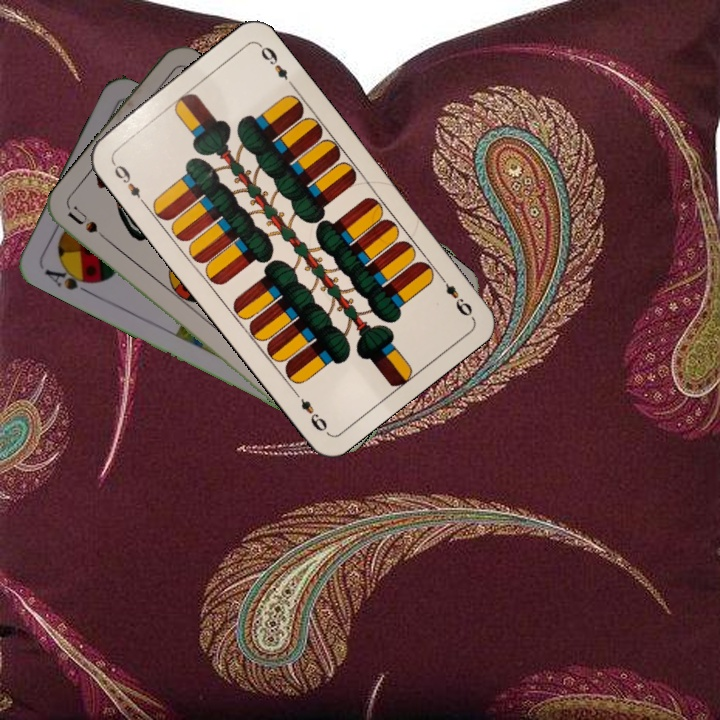E9: (434, 269, 476, 319), (108, 157, 149, 208)
SA: (40, 261, 98, 297)
SU: (64, 203, 117, 249)
